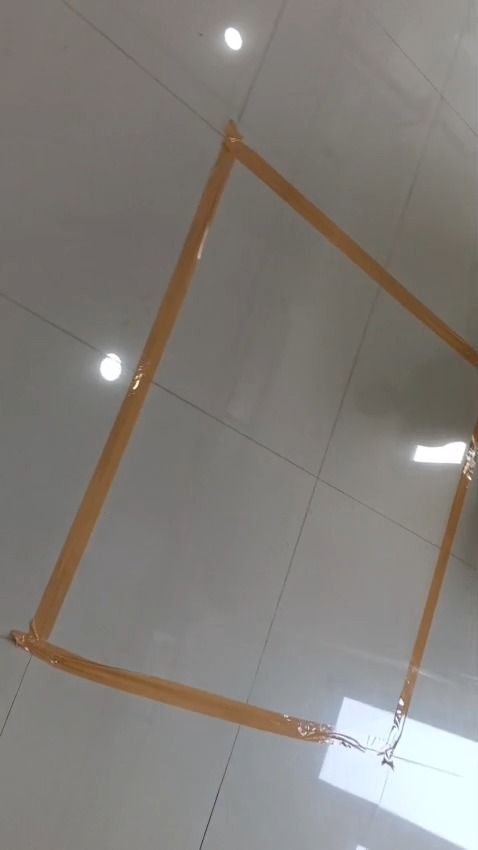floor marking: (11, 122, 477, 751), (378, 420, 477, 767)
